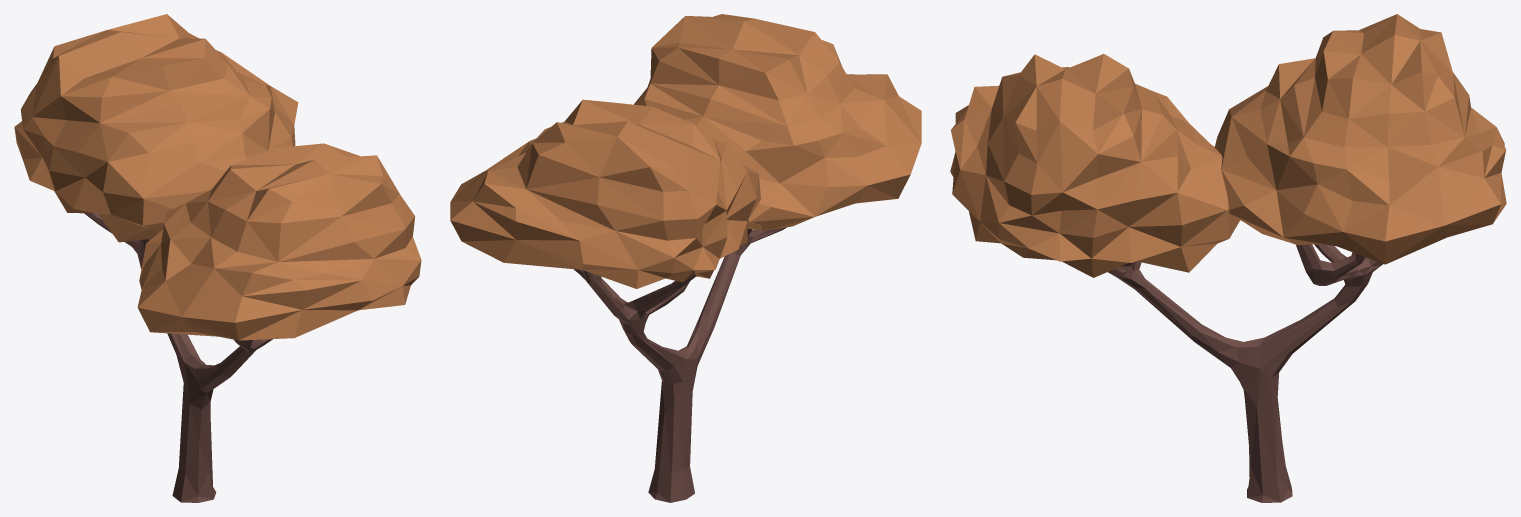
Rendered from CommonTree_Autumn_1.lod1.glb.
3 views of the same model, side by side, from view 1: azimuth 30°, elevation 25°; view 2: azimuth 150°, elevation 25°; view 3: azimuth 270°, elevation 25° (orthographic). The views are drawn at different scales.
Visible parts, largest first — view 1: CommonTree_Autumn_1; view 2: CommonTree_Autumn_1; view 3: CommonTree_Autumn_1.
Boxes of the visible parts, x1=… form: CommonTree_Autumn_1: x1=14, y1=14, x2=421, y2=502; CommonTree_Autumn_1: x1=450, y1=14, x2=921, y2=502; CommonTree_Autumn_1: x1=950, y1=14, x2=1506, y2=502.
Size of the model in its own units: 1.89 by 2.48 by 2.77.
